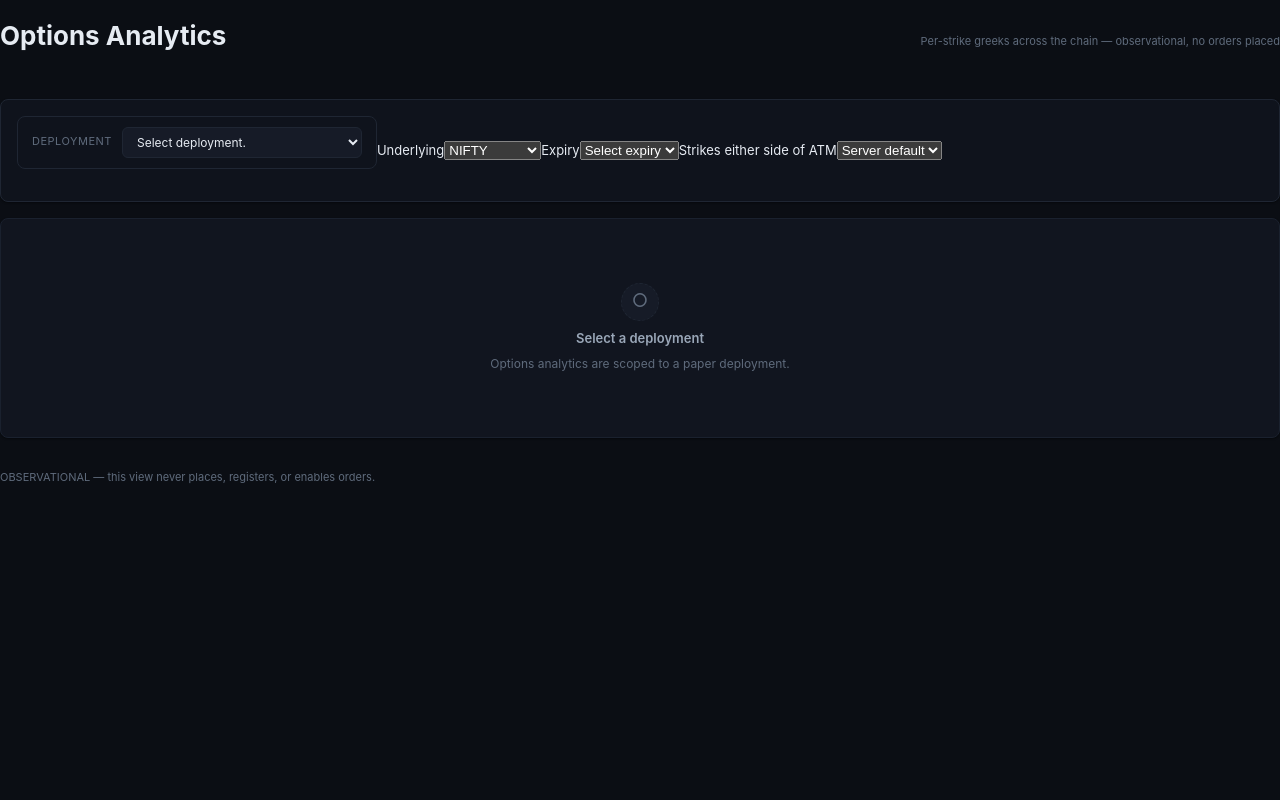
PaperOptionsAnalytics — rendering › shows the ATM summary aggregates
Select "dep-1 — NSE:SBIN · 1d [active]" in the dropdown named "Select deployment" at (242,142), box [122,126,362,158]
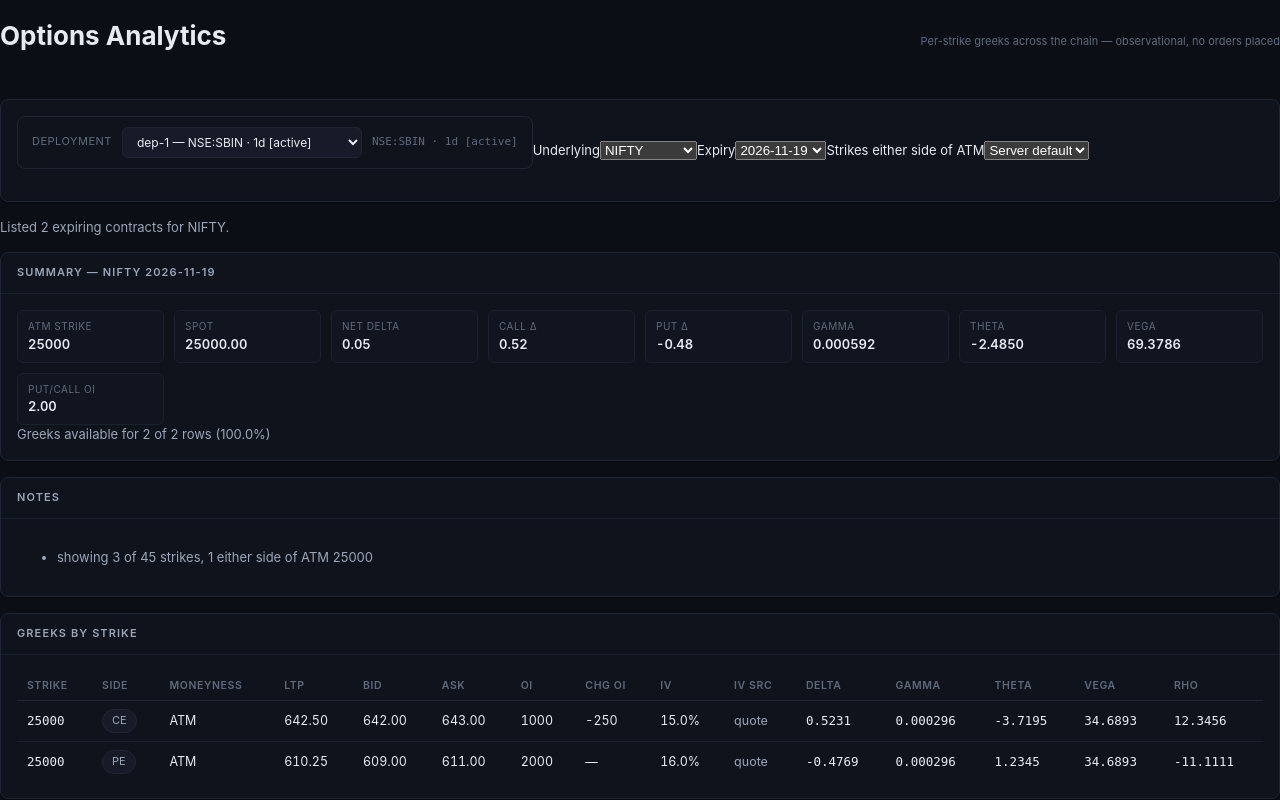
Expected: the text "Summary — NIFTY 2026-11-19" is shown, [17,265,216,281]
Expected: the text "ATM Strike" is shown, [28,320,92,332]
Expected: the text "Net Delta" is shown, [342,320,400,332]
